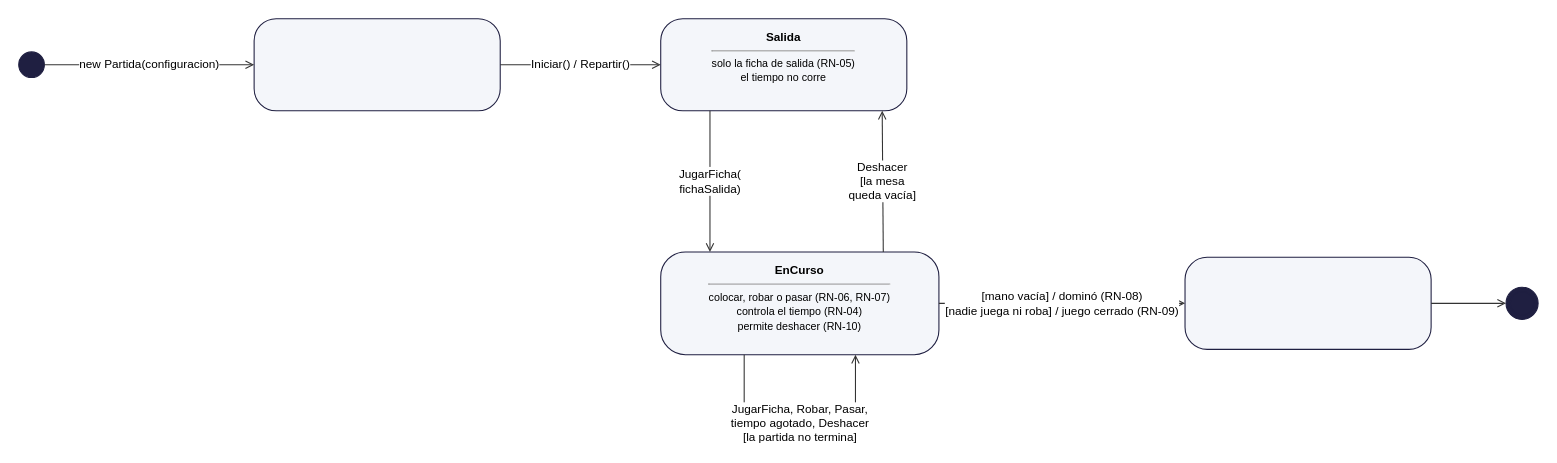
This 1557x463 diagram has some shape labels left out. Here are the shapes that lost their labels. From the top down, the centre of each, then its label:
pixel 376 64: Preparada solo admite Iniciar()
pixel 1307 302: Terminada no admite acciones resultado disponible
